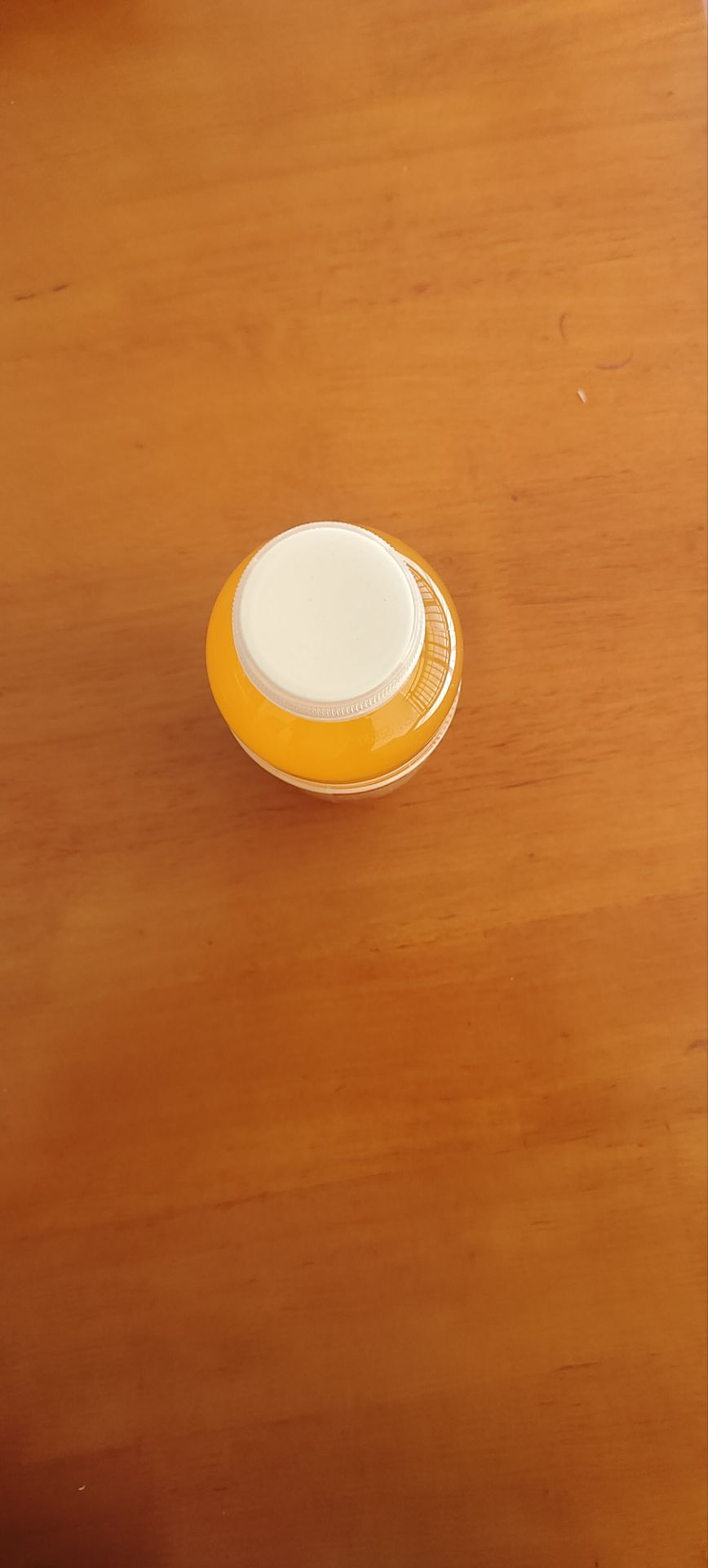redbull: (163, 509, 480, 832)
